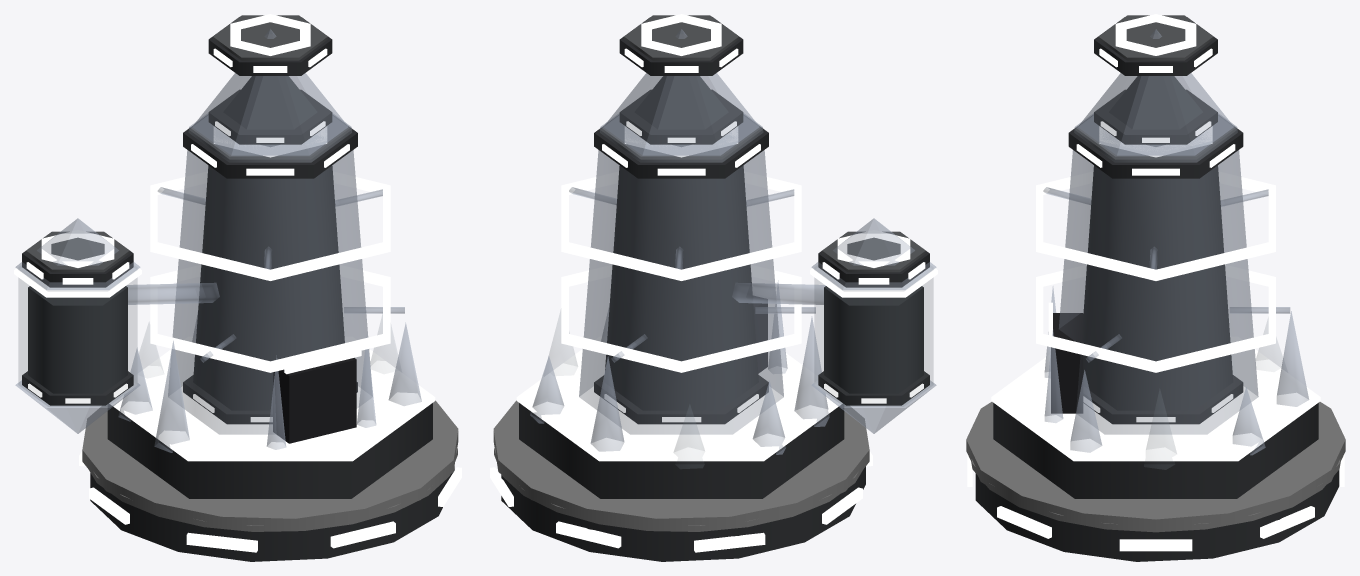
The model's file is Skin_Crystal_T1.glb.
The picture shows the model from 3 angles, left to right: view 1: azimuth 30°, elevation 25°; view 2: azimuth 150°, elevation 25°; view 3: azimuth 270°, elevation 25°; orthographic projection.
Parts seen in each view (by area): view 1: Skin_Crystal_T1; view 2: Skin_Crystal_T1; view 3: Skin_Crystal_T1.
Part boxes in pixels (box(x1,y1,x2,y2)): Skin_Crystal_T1: box(14, 14, 461, 561); Skin_Crystal_T1: box(490, 14, 937, 561); Skin_Crystal_T1: box(966, 14, 1345, 561).
Bounding box in the file's own units: 4.31 × 4.64 × 3.5.
